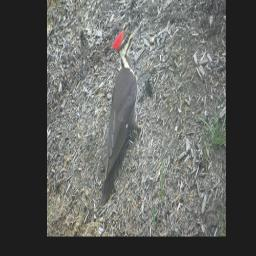Woodpecker: (98, 21, 146, 205)
